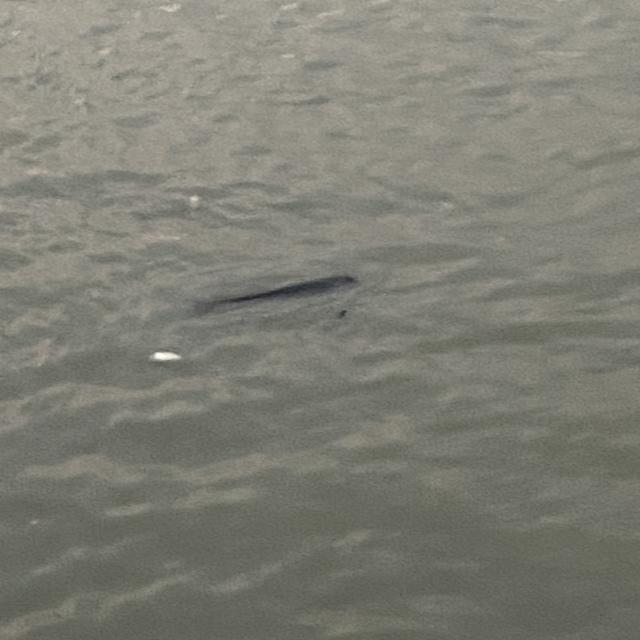Organic Debris: (174, 258, 367, 315)
Plastic: (144, 342, 188, 370)
